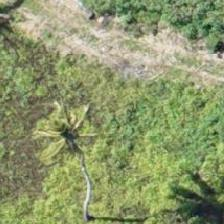coconut_tree: (27, 77, 117, 167)
